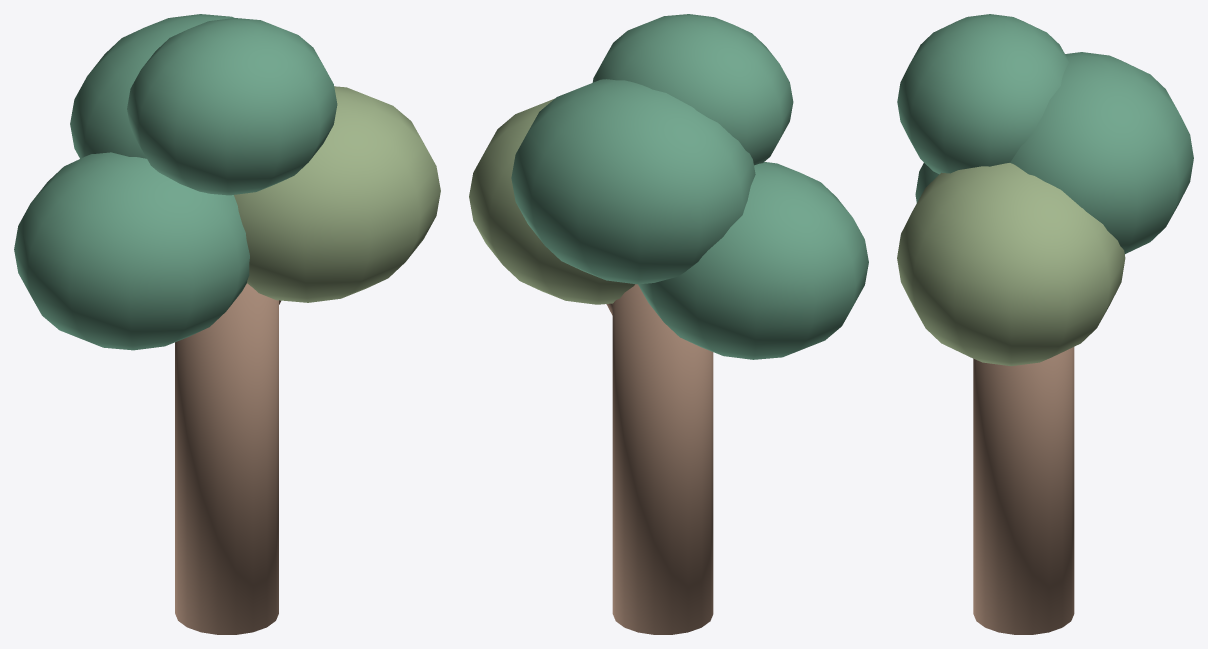
Rendered from FestivalTreeB.fbx.
3 views of the same model, side by side, from view 1: azimuth 30°, elevation 25°; view 2: azimuth 150°, elevation 25°; view 3: azimuth 270°, elevation 25° (orthographic). The views are drawn at different scales.
Parts seen in each view (by area): view 1: FestivalTreeB Leaf__Leaf, FestivalTreeB Wood__Wood, FestivalTreeB LeafWarm__LeafWarm; view 2: FestivalTreeB Leaf__Leaf, FestivalTreeB Wood__Wood, FestivalTreeB LeafWarm__LeafWarm; view 3: FestivalTreeB Leaf__Leaf, FestivalTreeB LeafWarm__LeafWarm, FestivalTreeB Wood__Wood.
Boxes of the visible parts, left/top/right/bottom form: FestivalTreeB Leaf__Leaf: left=14, top=14, right=337, bottom=350; FestivalTreeB Wood__Wood: left=175, top=283, right=280, bottom=634; FestivalTreeB LeafWarm__LeafWarm: left=234, top=86, right=440, bottom=302; FestivalTreeB Leaf__Leaf: left=511, top=14, right=868, bottom=359; FestivalTreeB Wood__Wood: left=606, top=284, right=713, bottom=634; FestivalTreeB LeafWarm__LeafWarm: left=469, top=98, right=634, bottom=304; FestivalTreeB Leaf__Leaf: left=897, top=14, right=1193, bottom=253; FestivalTreeB LeafWarm__LeafWarm: left=897, top=163, right=1125, bottom=366; FestivalTreeB Wood__Wood: left=973, top=347, right=1074, bottom=634.
Size of the model in its own units: 418 by 611 by 282.
